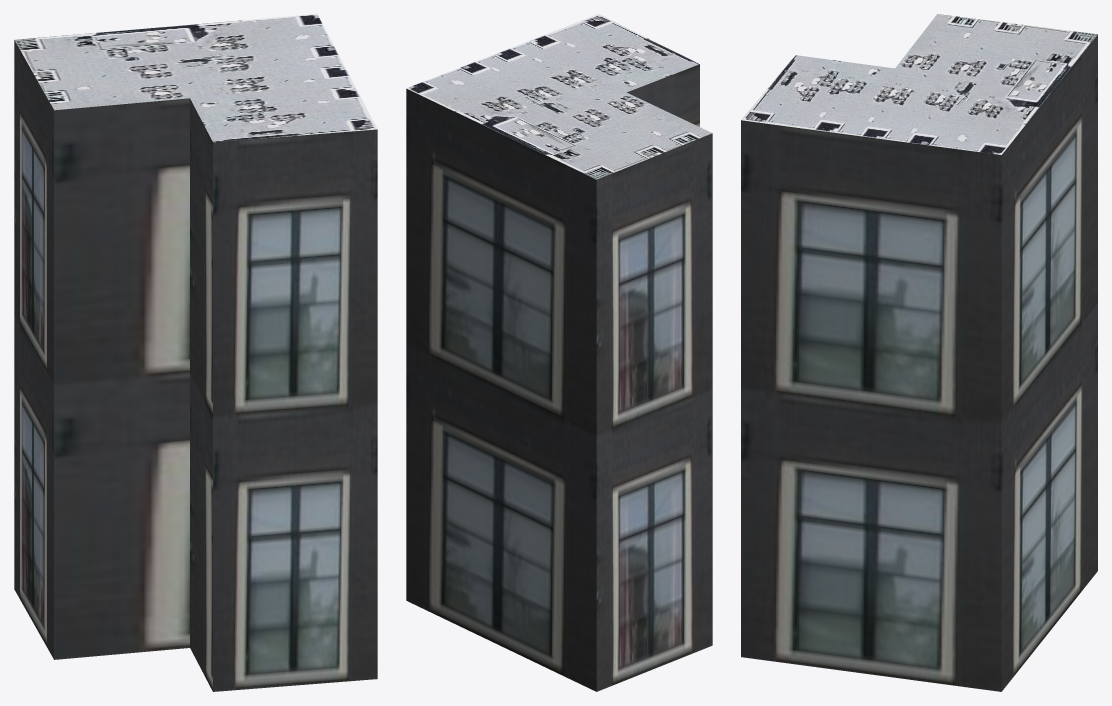
File: ResTex__400.fbx
The picture shows the model from 3 angles, left to right: view 1: azimuth 30°, elevation 25°; view 2: azimuth 150°, elevation 25°; view 3: azimuth 270°, elevation 25°; orthographic projection. The views are drawn at different scales.
Visible parts, largest first — view 1: CityEngineMaterial_22_m, CityEngineMaterial_4_m; view 2: CityEngineMaterial_22_m, CityEngineMaterial_4_m; view 3: CityEngineMaterial_22_m, CityEngineMaterial_4_m.
Boxes of the visible parts, box(x1,y1,x2,y2) form: CityEngineMaterial_22_m: box(14, 40, 377, 691); CityEngineMaterial_4_m: box(14, 14, 377, 142); CityEngineMaterial_22_m: box(406, 64, 712, 691); CityEngineMaterial_4_m: box(406, 14, 712, 179); CityEngineMaterial_22_m: box(741, 34, 1097, 691); CityEngineMaterial_4_m: box(741, 14, 1097, 154).
Bounding box in the file's own units: 3.38 × 6 × 3.62.
Materials: 2 (2 with a texture image).
